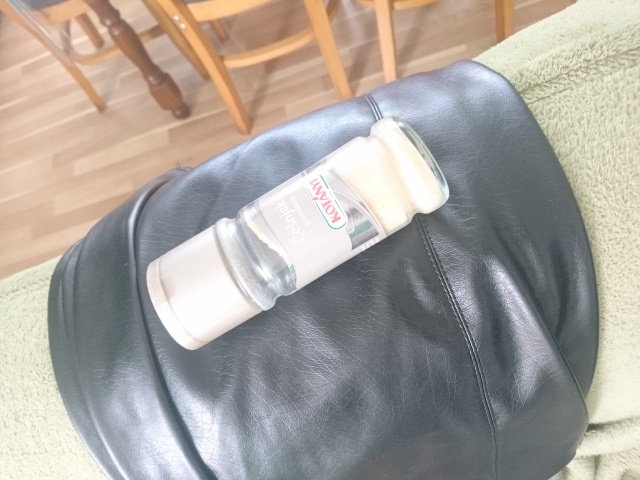Kotanyi Garlic Granules 70g: (142, 113, 453, 354)
